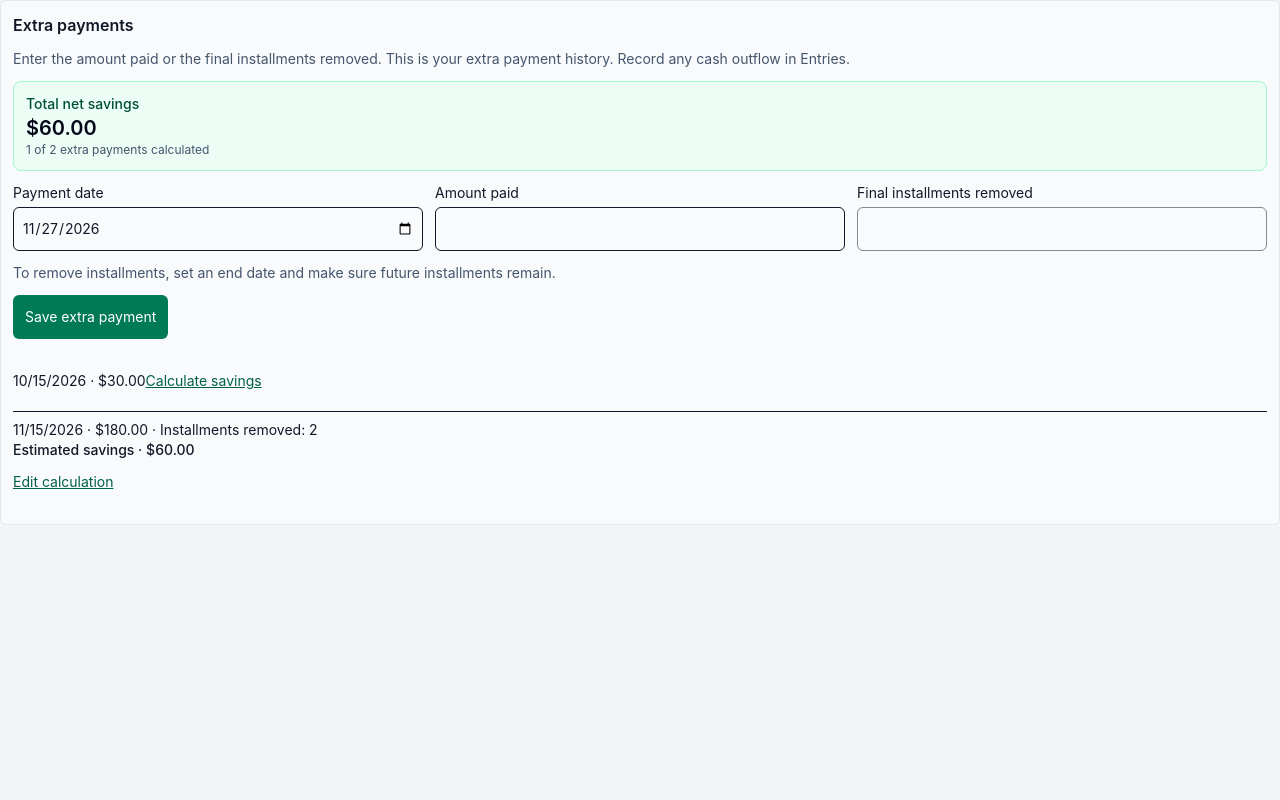
calculates a historical payment and includes it in the debt's total
This screenshot has width=1280, height=800.
Click the button "Calculate savings".
click(204, 381)  # box [146,359,262,403]
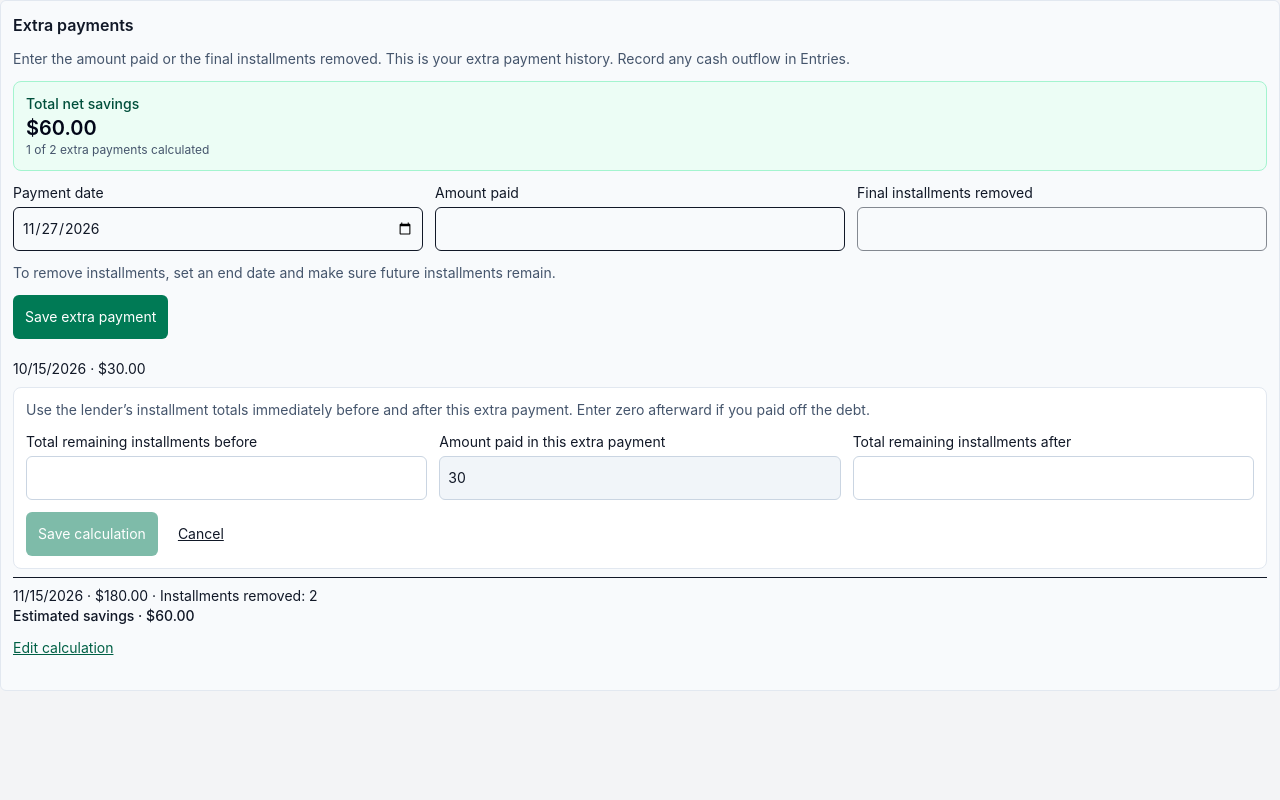
Type "300" into the number field labelled "Total remaining installments before".
click(227, 478); type("300")  # box [26,456,427,500]
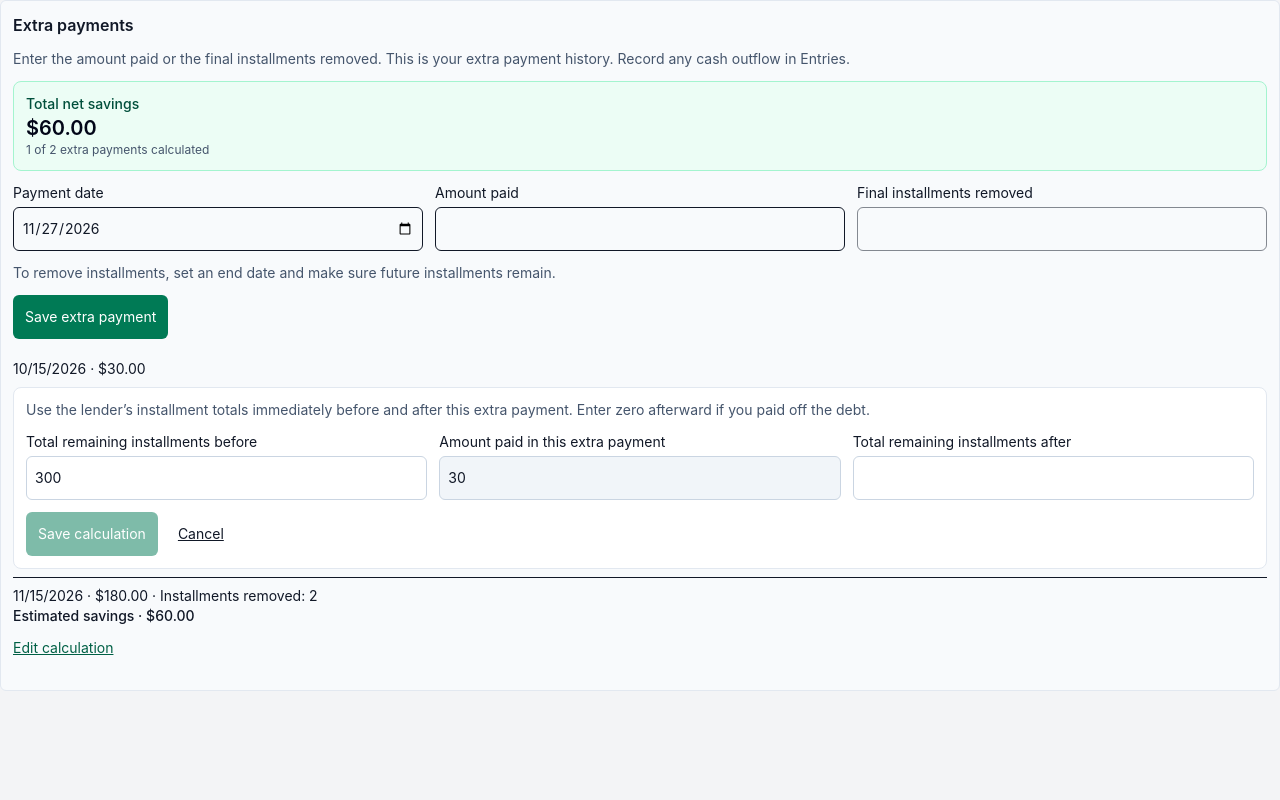
Type "240" into the number field labelled "Total remaining installments after".
click(1053, 478); type("240")  # box [853,456,1254,500]
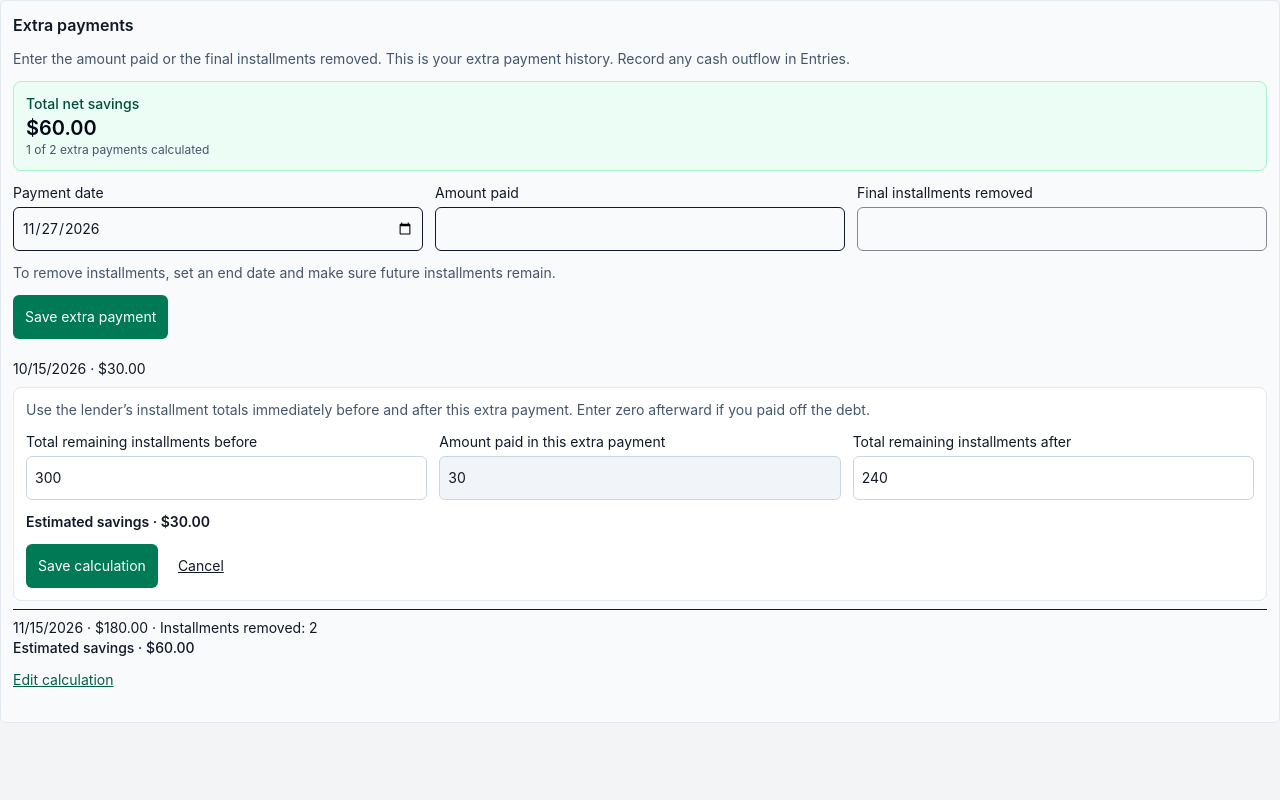
Click the button "Save calculation".
click(92, 566)  # box [26,544,158,588]
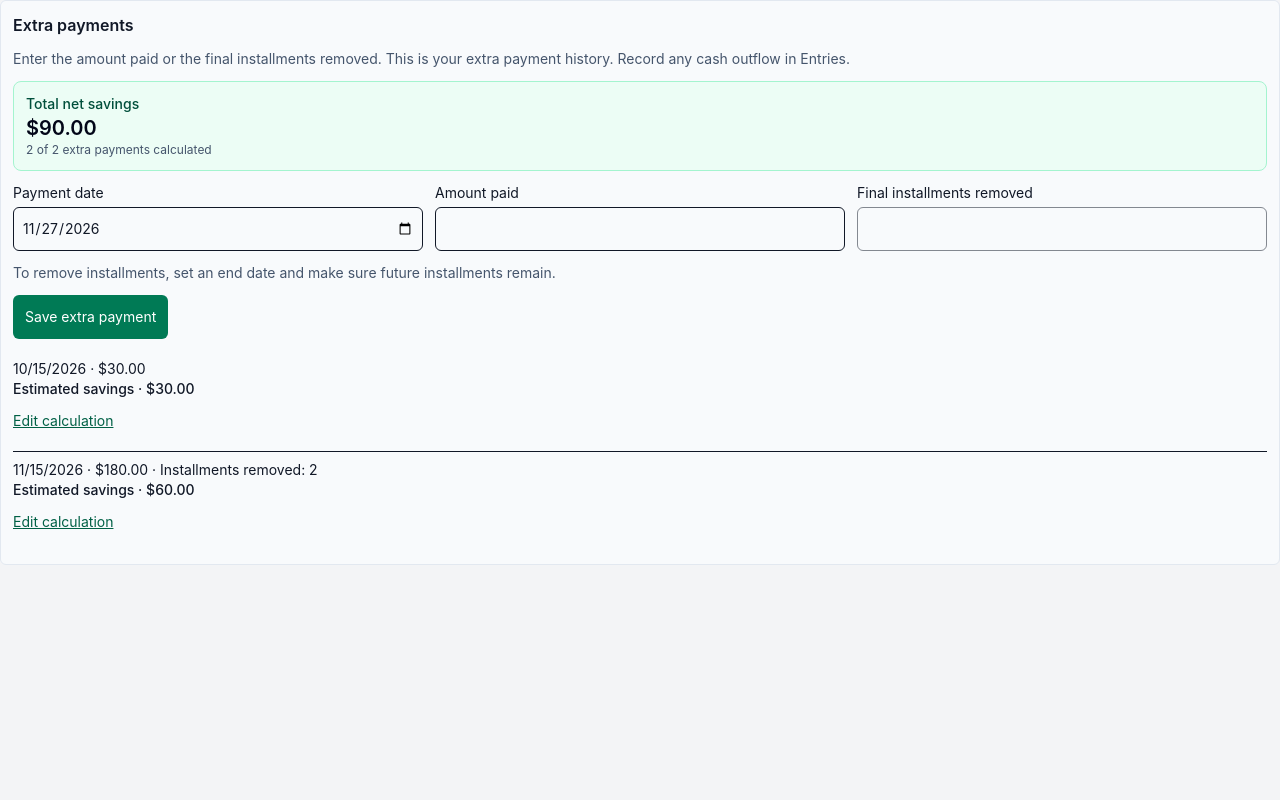
Expected: the text "2 of 2 extra payments calculated" is shown, [26,142,212,157]
Expected: the text "$90.00" is shown, [26,116,97,140]
